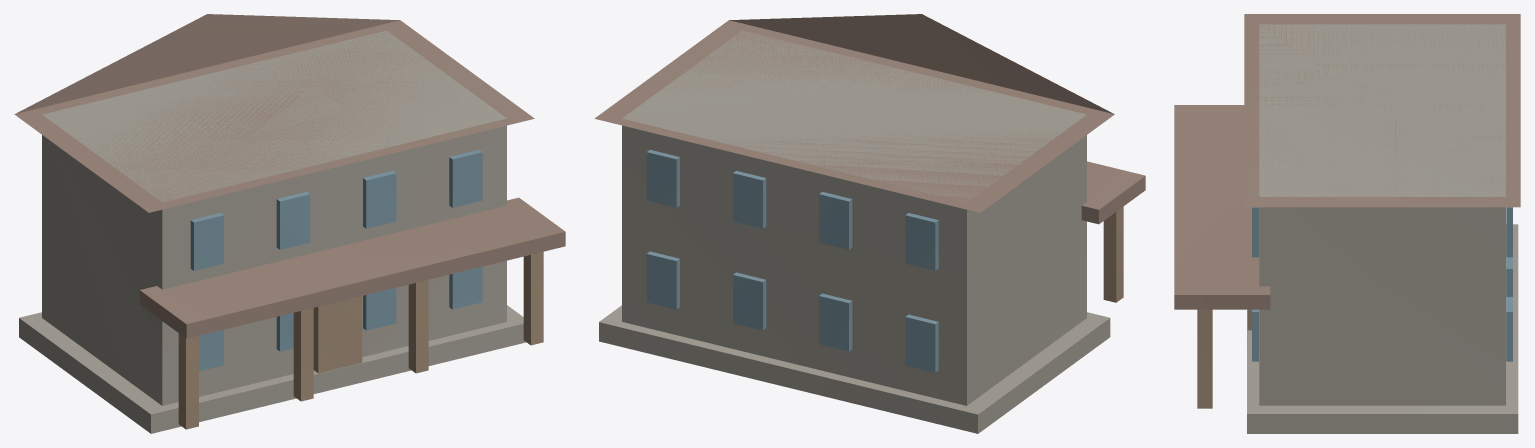
The model's file is market-03.glb.
3 views of the same model, side by side, from view 1: azimuth 30°, elevation 25°; view 2: azimuth 150°, elevation 25°; view 3: azimuth 270°, elevation 25° (orthographic). The views are drawn at different scales.
Visible parts, largest first — view 1: world; view 2: world; view 3: world.
Boxes of the visible parts, x1,y1,x2,y2 form: world: (14, 14, 565, 433); world: (594, 14, 1145, 433); world: (1174, 14, 1520, 433).
Bounding box in the file's own units: 1.67 × 1.14 × 1.26.
